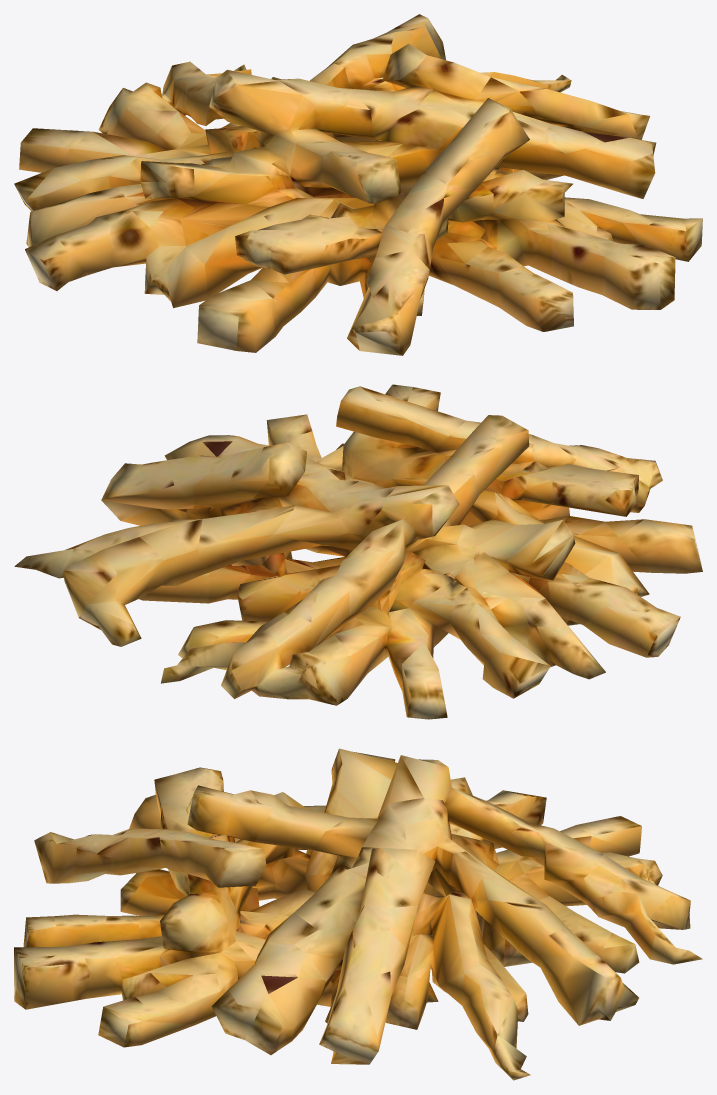
Rendered from patates.glb.
The picture shows the model from 3 angles, top to bottom: view 1: azimuth 30°, elevation 25°; view 2: azimuth 150°, elevation 25°; view 3: azimuth 270°, elevation 25°; orthographic projection. The views are drawn at different scales.
Parts seen in each view (by area): view 1: Mesh_0; view 2: Mesh_0; view 3: Mesh_0.
Boxes of the visible parts, x1,y1,x2,y2 form: Mesh_0: (14,14,702,355); Mesh_0: (14,384,702,719); Mesh_0: (14,748,702,1080).
Size of the model in its own units: 0.2 by 0.0435 by 0.1977.
1 material, 1 textured.
